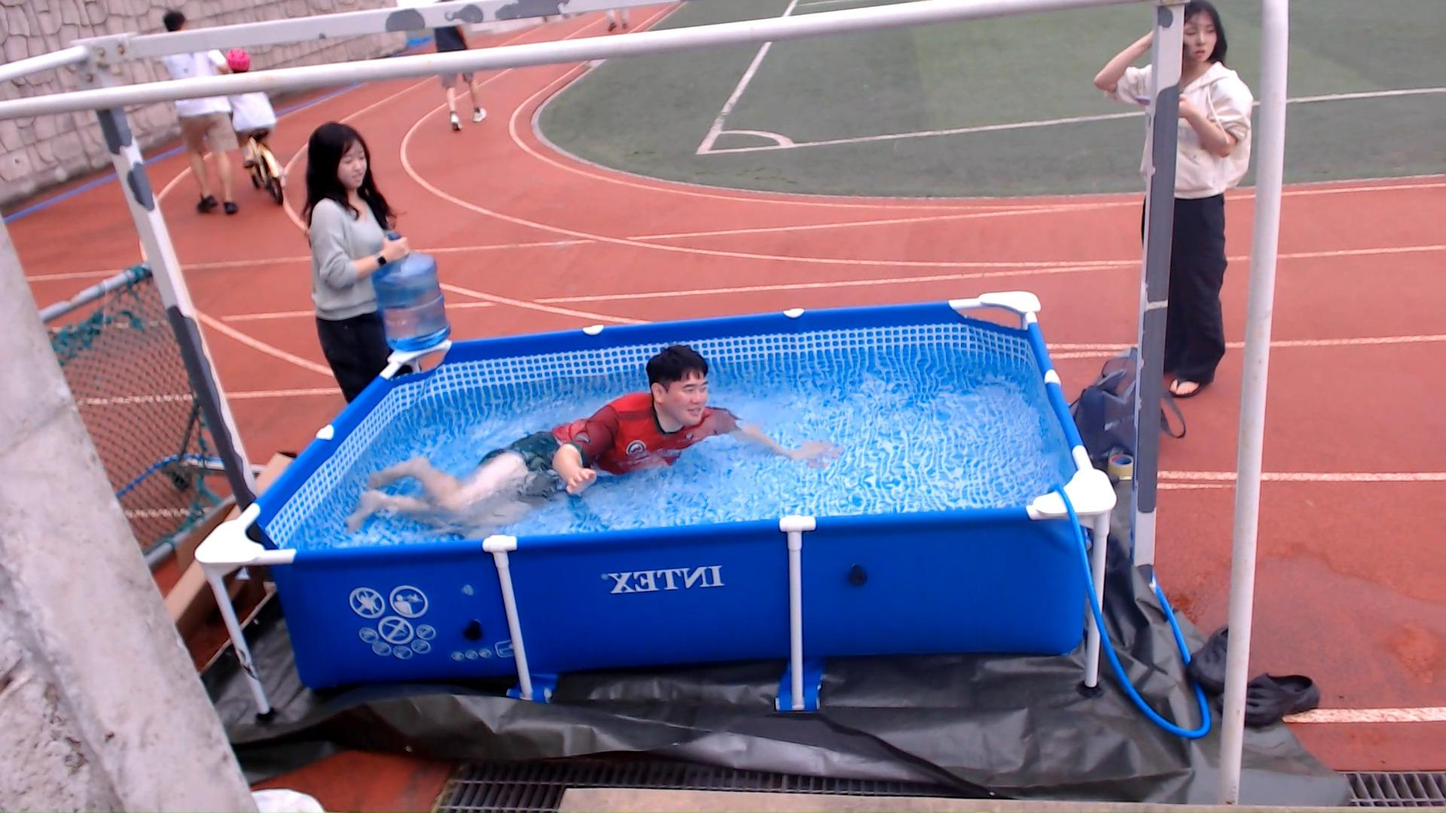Swimming: (338, 295, 812, 547)
